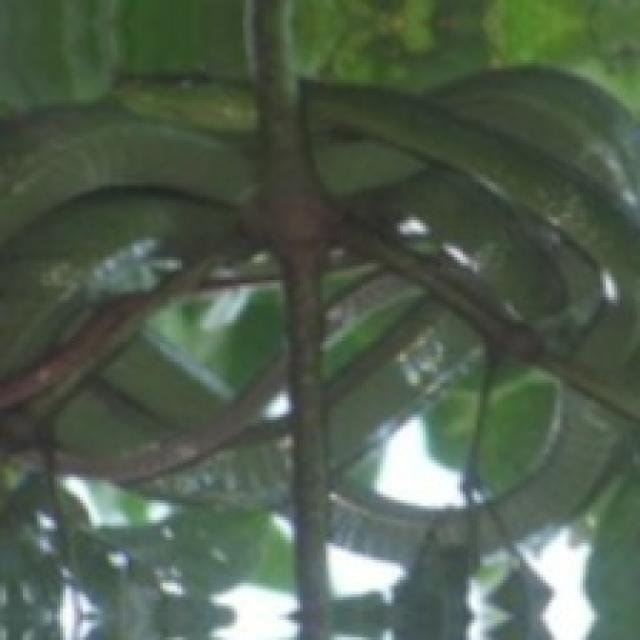red-tailed green ratsnake: (0, 69, 637, 557)
